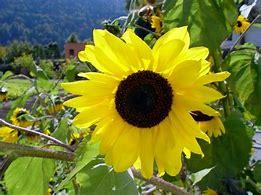sunflowers: (73, 28, 219, 175)
